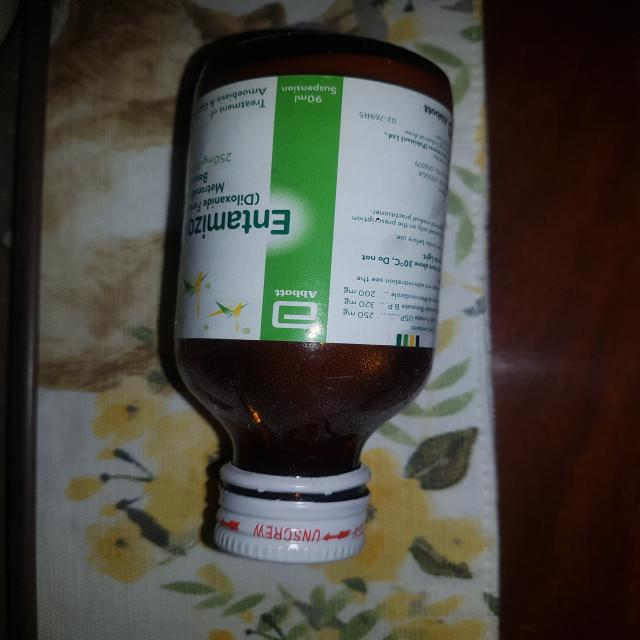electronic: (158, 27, 460, 566)
